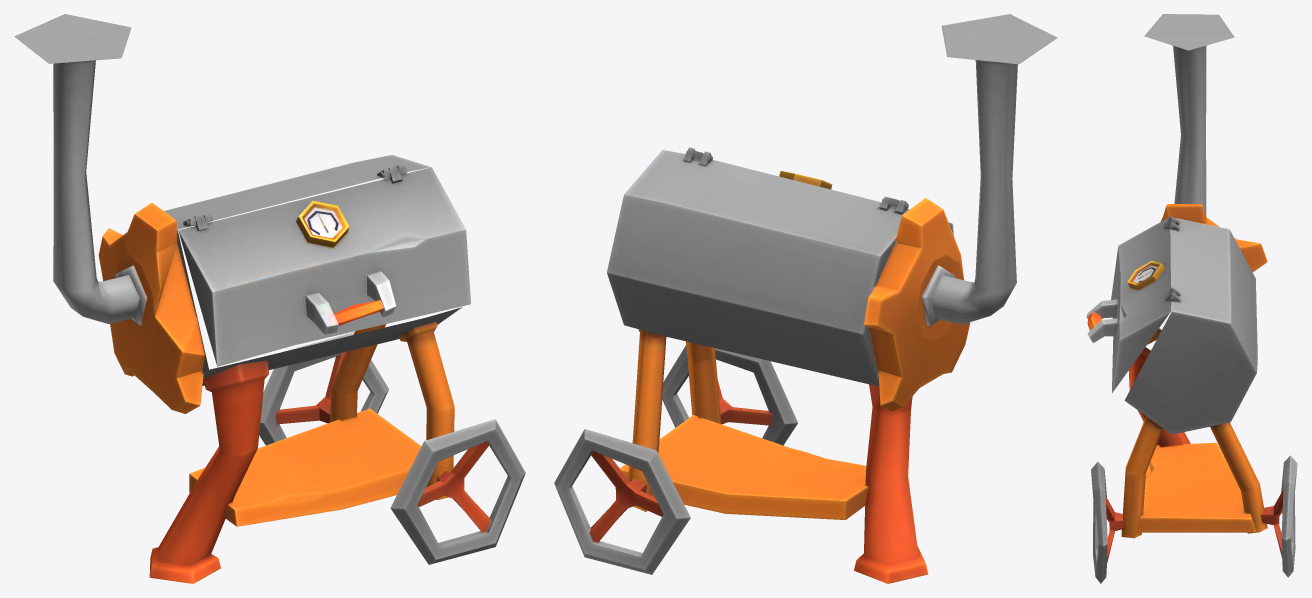
Rendered from obj_smoker01_base.gltf.
The picture shows the model from 3 angles, left to right: view 1: azimuth 30°, elevation 25°; view 2: azimuth 150°, elevation 25°; view 3: azimuth 270°, elevation 25°; orthographic projection. The views are drawn at different scales.
Visible parts, largest first — view 1: obj_smoker01_base; view 2: obj_smoker01_base; view 3: obj_smoker01_base.
Part boxes in pixels (x1,y1,x2,y2): obj_smoker01_base: (14,14,525,583); obj_smoker01_base: (554,14,1057,583); obj_smoker01_base: (1086,14,1297,583).
Size of what is drawn, in the model's own units: 1.7 by 2.05 by 0.9345.
1 material, 1 textured.
